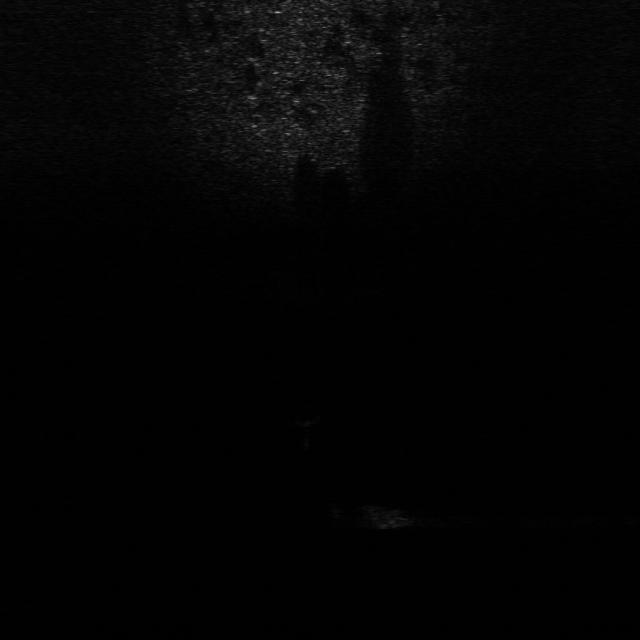ball: (289, 403, 327, 426)
metal bucket: (350, 499, 416, 531)
